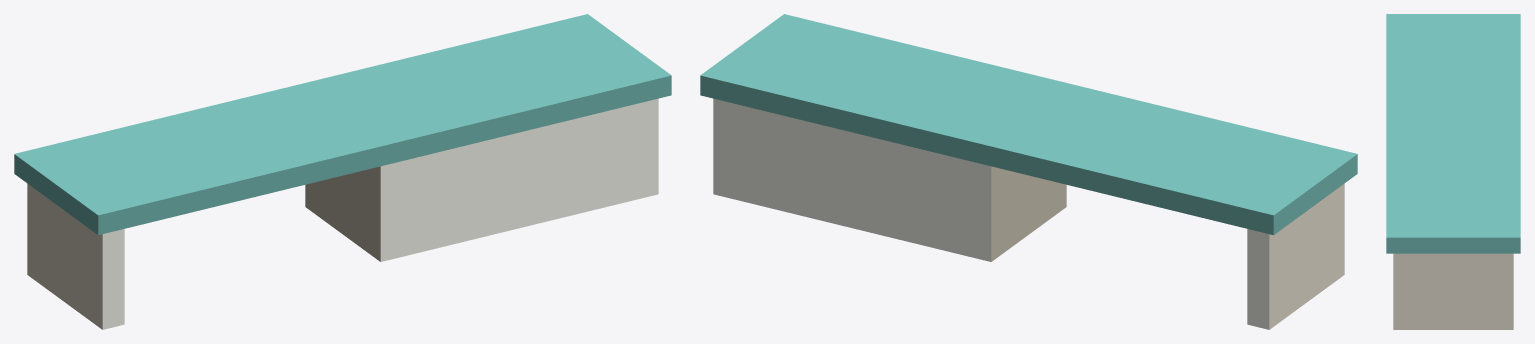
File: Store_Table.FBX
3 renders of one model, left to right at view 1: azimuth 30°, elevation 25°; view 2: azimuth 150°, elevation 25°; view 3: azimuth 270°, elevation 25°, orthographic. The views are drawn at different scales.
Visible parts, largest first — view 1: Plane039; view 2: Plane039; view 3: Plane039.
Part boxes in pixels (left/top/right/bottom): Plane039: left=14, top=14, right=671, bottom=329; Plane039: left=700, top=14, right=1357, bottom=329; Plane039: left=1386, top=14, right=1520, bottom=329.
Bounding box in the file's own units: 97.44 × 19.46 × 24.72.
